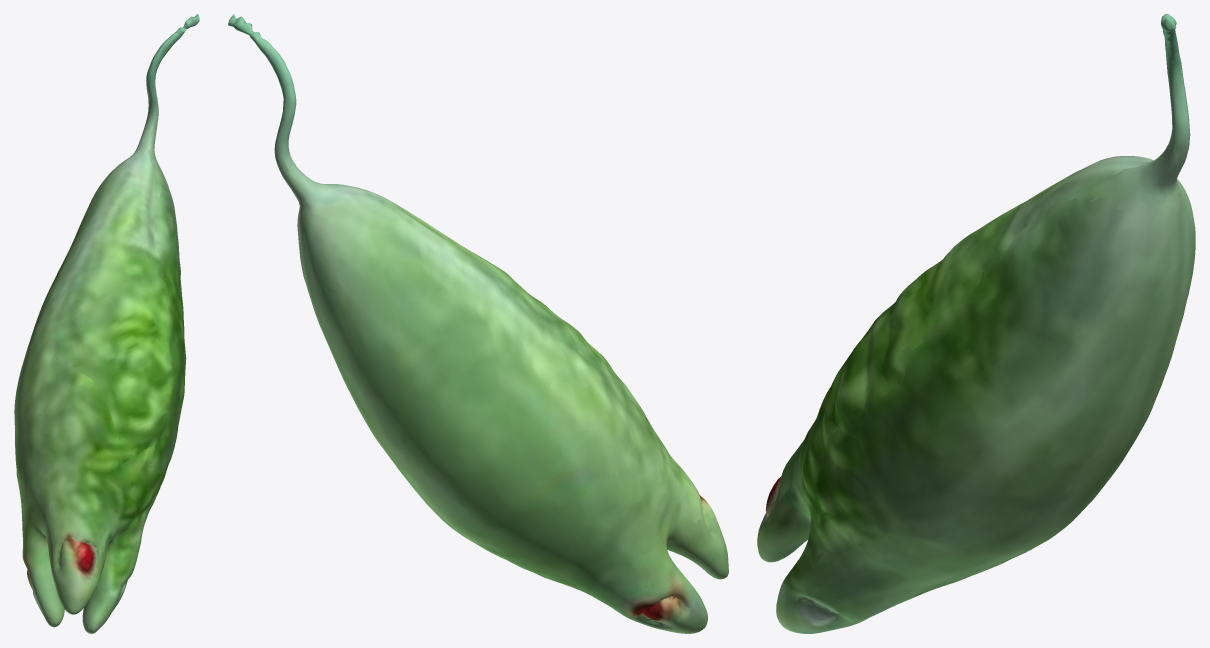
Rendered from euglena.glb.
3 renders of one model, left to right at view 1: azimuth 30°, elevation 25°; view 2: azimuth 150°, elevation 25°; view 3: azimuth 270°, elevation 25°, orthographic. The views are drawn at different scales.
Visible parts, largest first — view 1: tripo_node_9b63d9da-daec-4ad4-b0fc-462f64bf8834.003; view 2: tripo_node_9b63d9da-daec-4ad4-b0fc-462f64bf8834.003; view 3: tripo_node_9b63d9da-daec-4ad4-b0fc-462f64bf8834.003.
Boxes of the visible parts, <box> form: tripo_node_9b63d9da-daec-4ad4-b0fc-462f64bf8834.003: <box>14,14,199,633</box>; tripo_node_9b63d9da-daec-4ad4-b0fc-462f64bf8834.003: <box>228,14,728,633</box>; tripo_node_9b63d9da-daec-4ad4-b0fc-462f64bf8834.003: <box>757,14,1195,633</box>.
Size of the model in its own units: 0.5596 by 1 by 0.503.
1 material, 1 textured.
